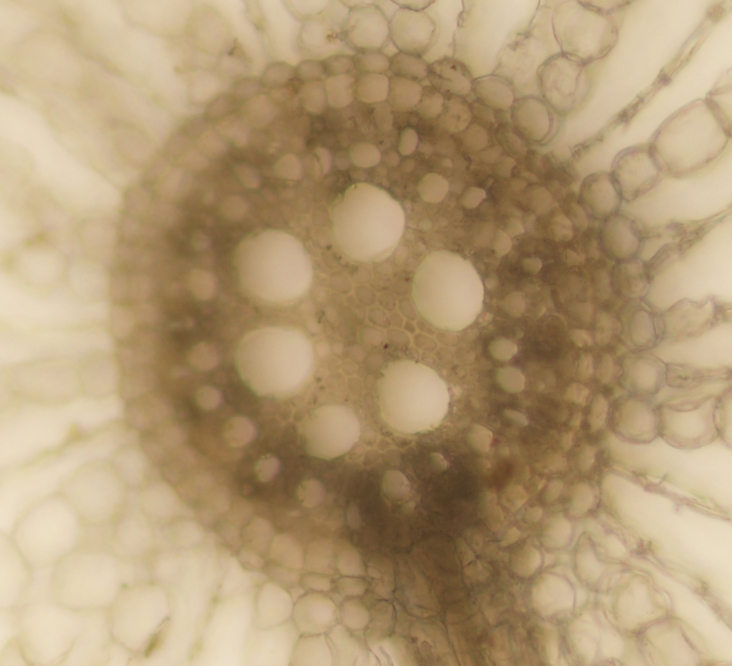lm: (326, 180, 405, 264), (410, 248, 486, 331), (232, 323, 317, 397), (232, 228, 313, 304), (375, 357, 448, 435), (295, 402, 360, 460)
